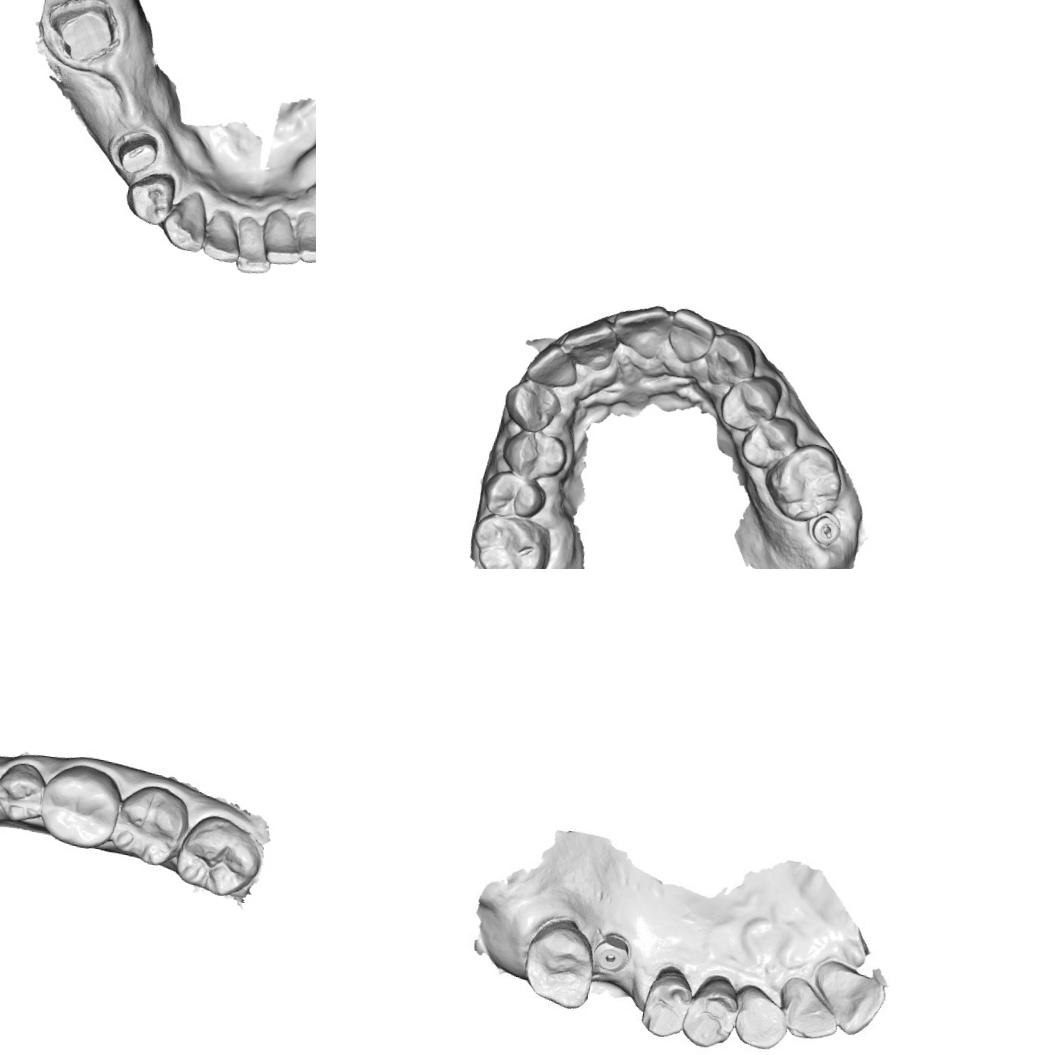canine: (727, 983, 789, 1053), (156, 185, 212, 256), (500, 376, 565, 436), (702, 330, 761, 392)
crown: (41, 0, 126, 70), (108, 127, 163, 178)
implant: (589, 930, 630, 976)
implant_minus: (805, 508, 845, 549)
incisor: (816, 962, 886, 1034), (608, 296, 676, 364), (778, 975, 841, 1041), (554, 313, 621, 375), (256, 205, 310, 269), (664, 305, 718, 367), (195, 206, 249, 266), (230, 212, 278, 279), (524, 339, 583, 390), (287, 206, 316, 268)
molar: (170, 809, 268, 902), (105, 778, 197, 871), (35, 761, 125, 852), (516, 918, 598, 1014), (761, 436, 846, 526), (466, 510, 555, 569)
premolar: (716, 367, 787, 436), (632, 968, 694, 1042), (678, 980, 738, 1052), (499, 425, 571, 483), (738, 411, 802, 473), (120, 166, 181, 231), (480, 466, 550, 522), (0, 757, 47, 826)
